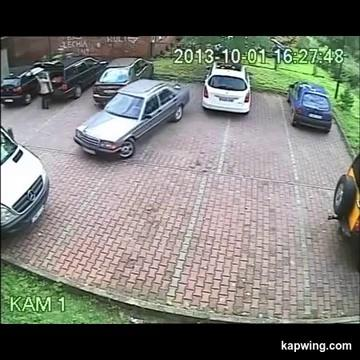car: (74, 79, 189, 158), (1, 126, 49, 236), (328, 153, 359, 270), (33, 56, 107, 99), (93, 57, 153, 105), (202, 62, 250, 113), (287, 81, 332, 132), (1, 65, 38, 105)
